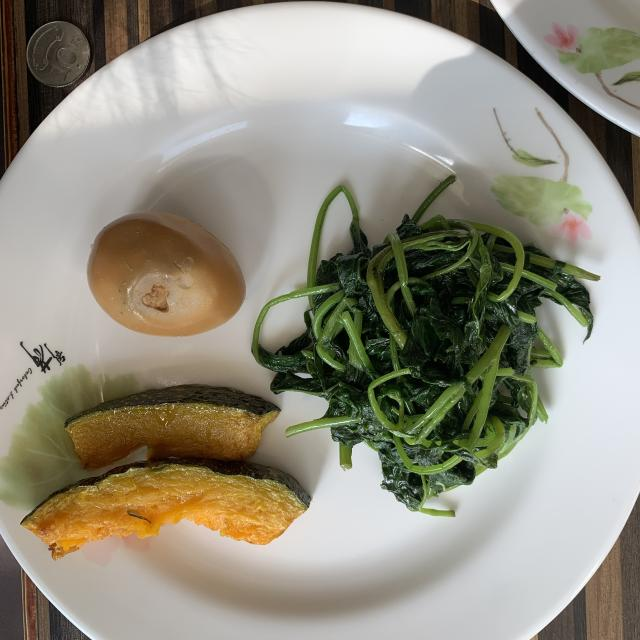coin: (26, 21, 90, 88)
pumpkin: (22, 385, 311, 559)
soy egg: (88, 211, 245, 336)
sweet potato leaves: (251, 176, 599, 515)
